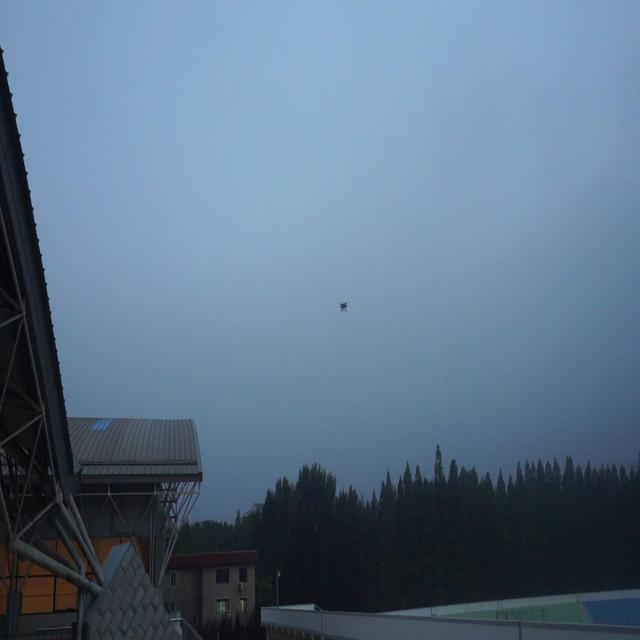drone: (337, 296, 350, 316)
